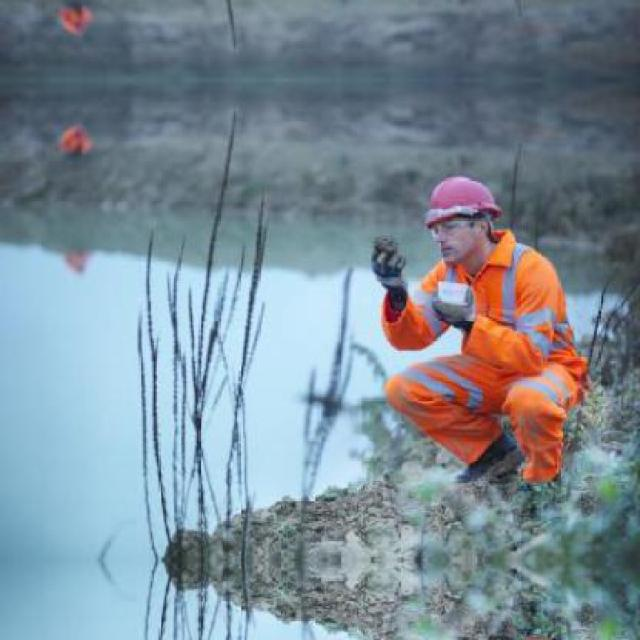helmet: (414, 167, 506, 267)
